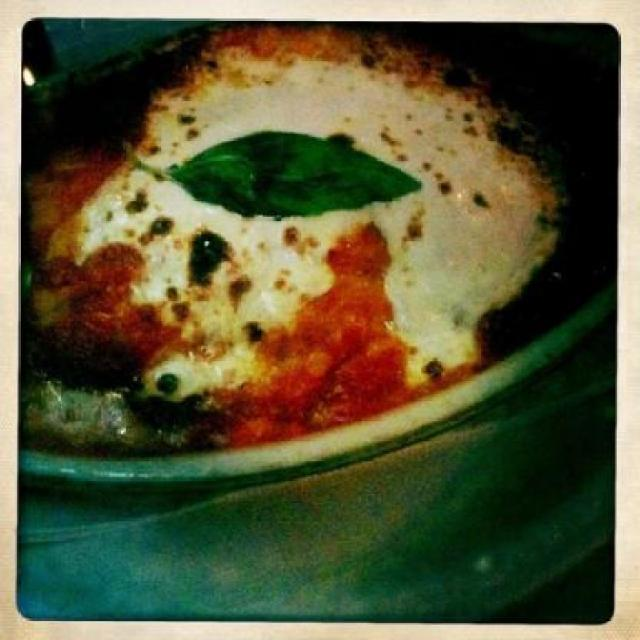Lasagna: (49, 21, 582, 446)
